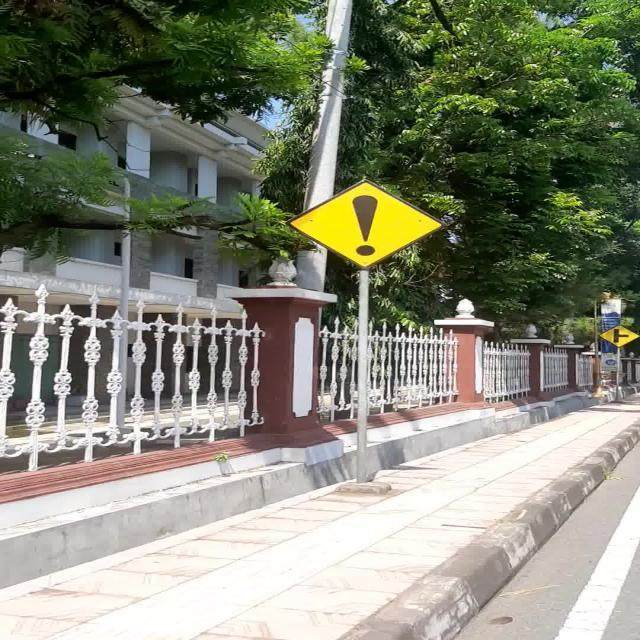Hati-Hati: (284, 179, 446, 268)
